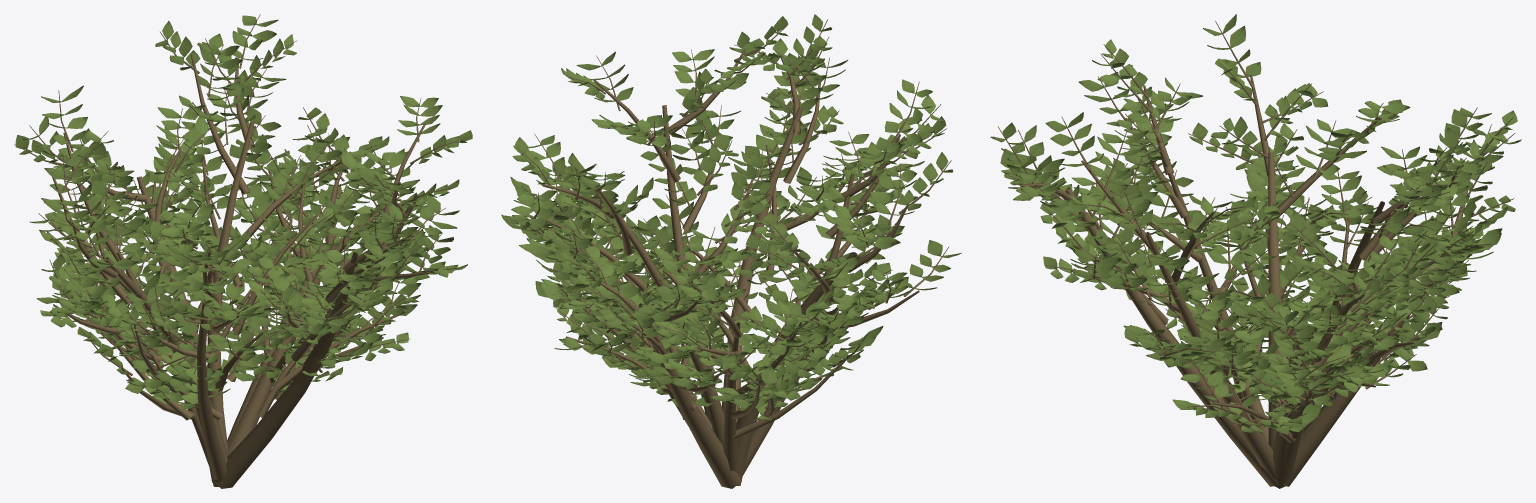
File: Lentisque_0_High.fbx
3 renders of one model, left to right at view 1: azimuth 30°, elevation 25°; view 2: azimuth 150°, elevation 25°; view 3: azimuth 270°, elevation 25°, orthographic. The views are drawn at different scales.
Visible parts, largest first — view 1: Lentisque_0_High; view 2: Lentisque_0_High; view 3: Lentisque_0_High.
Boxes of the visible parts, x1=… form: Lentisque_0_High: x1=14, y1=14, x2=472, y2=488; Lentisque_0_High: x1=501, y1=14, x2=961, y2=488; Lentisque_0_High: x1=990, y1=14, x2=1521, y2=488.
Size of the model in its own units: 189 by 167 by 203.
